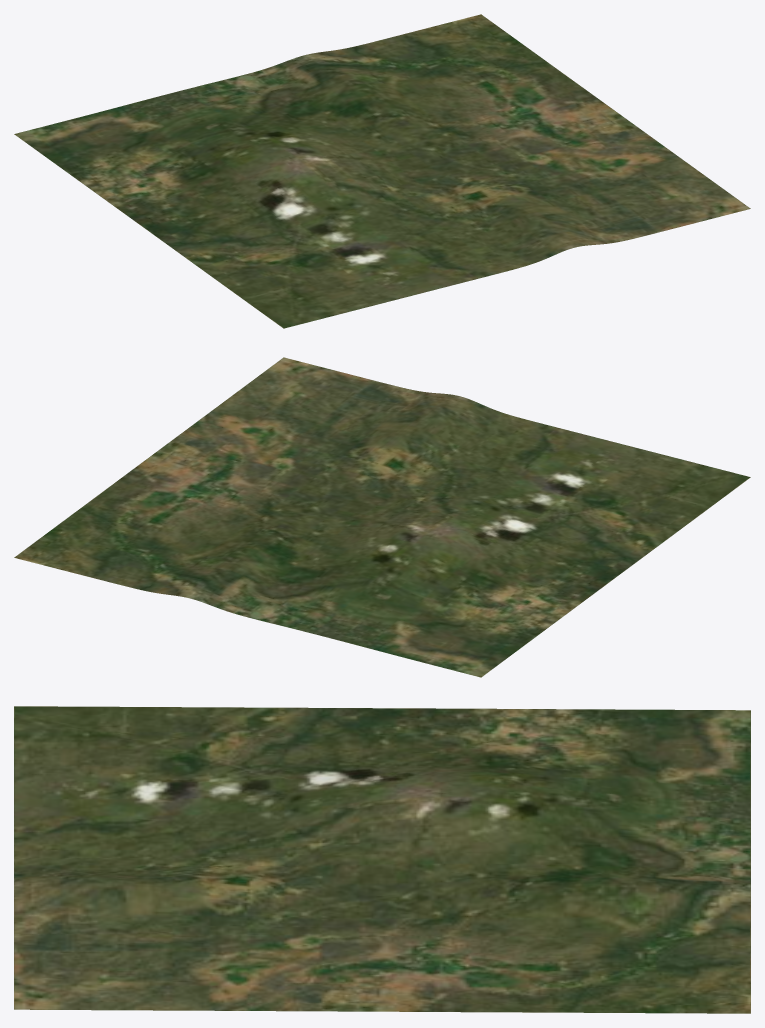
3 renders of one model, top to bottom at view 1: azimuth 30°, elevation 25°; view 2: azimuth 150°, elevation 25°; view 3: azimuth 270°, elevation 25°, orthographic. The views are drawn at different scales.
Visible parts, largest first — view 1: geometry_0; view 2: geometry_0; view 3: geometry_0.
Part boxes in pixels (box(x1,y1,x2,y2)): geometry_0: box(14, 14, 750, 328); geometry_0: box(14, 357, 750, 677); geometry_0: box(14, 706, 750, 1013).
Bounding box in the file's own units: 10000 × 386 × 10000.
1 material, 1 textured.
